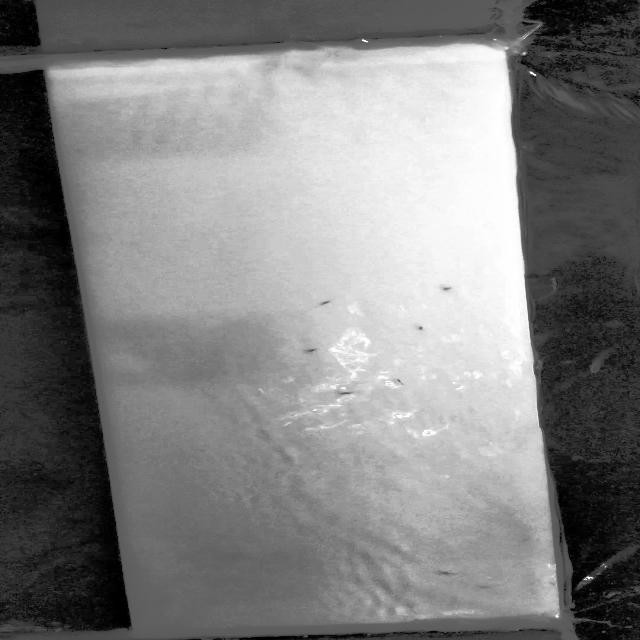shrimp: (437, 282, 460, 298), (300, 346, 328, 356), (314, 297, 338, 308), (390, 374, 412, 386), (336, 390, 358, 397), (412, 324, 430, 332)
